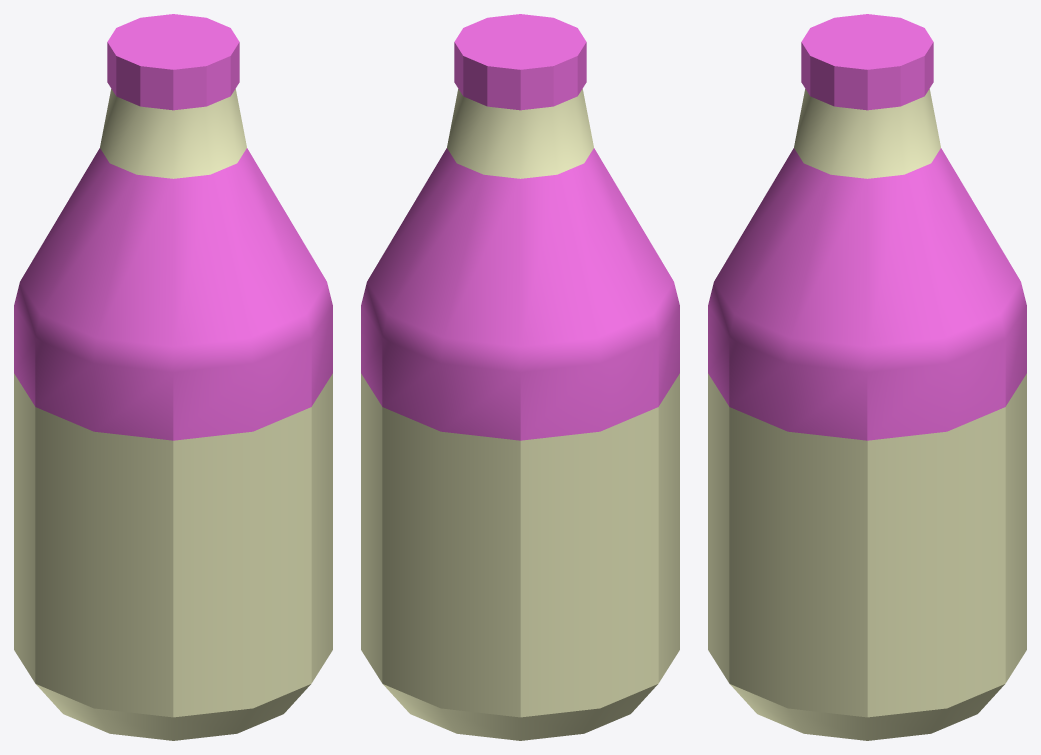
Rendered from Ürün2.fbx.
3 renders of one model, left to right at view 1: azimuth 30°, elevation 25°; view 2: azimuth 150°, elevation 25°; view 3: azimuth 270°, elevation 25°, orthographic.
Parts seen in each view (by area): view 1: pCylinder5; view 2: pCylinder5; view 3: pCylinder5.
Boxes of the visible parts, x1=… form: pCylinder5: x1=14, y1=14, x2=332, y2=740; pCylinder5: x1=361, y1=14, x2=679, y2=740; pCylinder5: x1=708, y1=14, x2=1026, y2=740.
Bounding box in the file's own units: 8.52 × 19.04 × 8.52.
